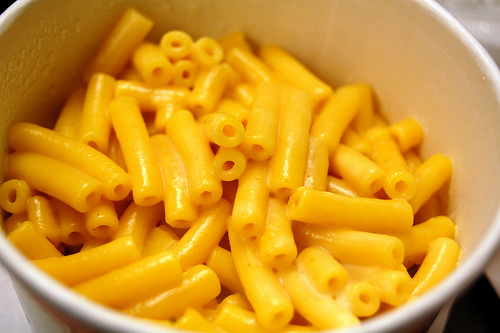macncheese: (1, 6, 460, 333)
